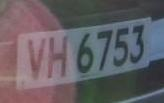3: (129, 23, 148, 67)
5: (111, 23, 131, 70)
6: (74, 29, 99, 80)
7: (94, 26, 111, 74)
H: (46, 33, 69, 81)
V: (24, 34, 49, 83)
